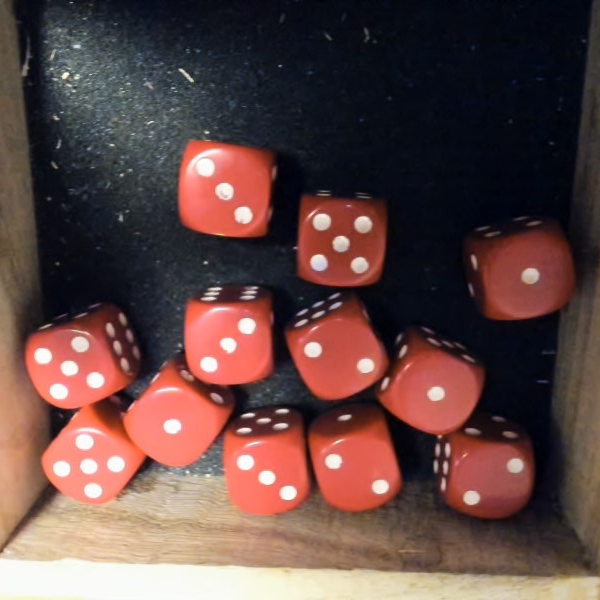red_die_pip1: (111, 347, 249, 484), (363, 313, 496, 449), (452, 204, 579, 328)
red_die_pip2: (269, 278, 402, 417), (415, 406, 542, 528), (302, 388, 413, 518)
red_die_pip3: (218, 399, 323, 525), (170, 130, 285, 245), (185, 285, 285, 385)
red_die_pip5: (30, 390, 161, 523), (14, 292, 152, 418), (289, 185, 391, 292)
